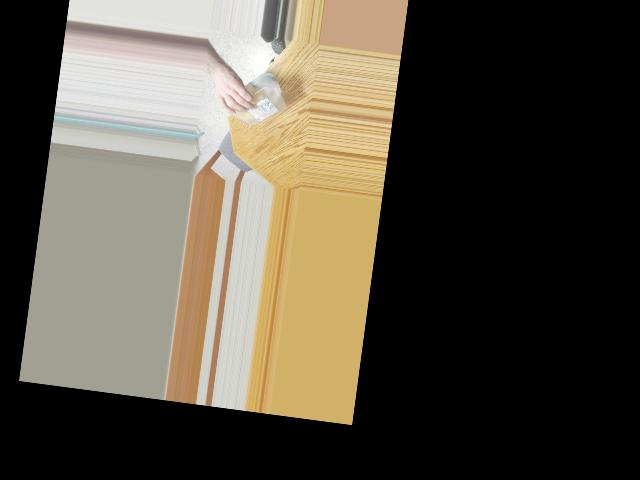cheese: (219, 69, 289, 128)
